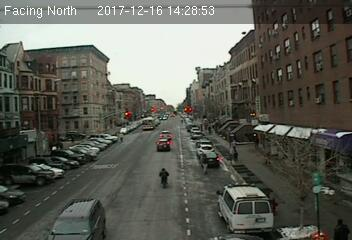bicycle: (157, 167, 170, 189)
police: (219, 181, 275, 230)
